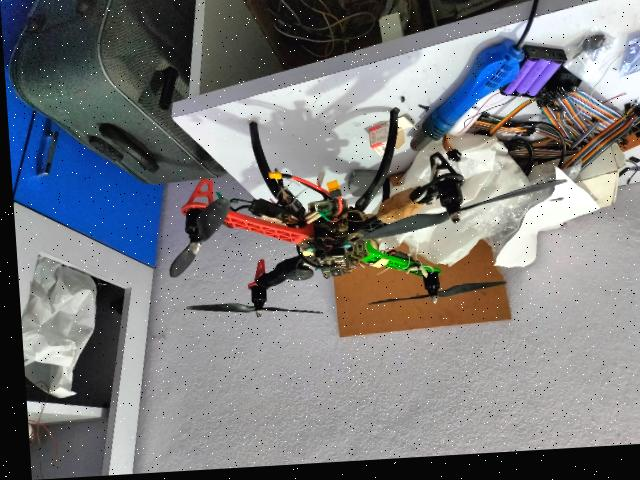drone: (153, 112, 539, 349)
